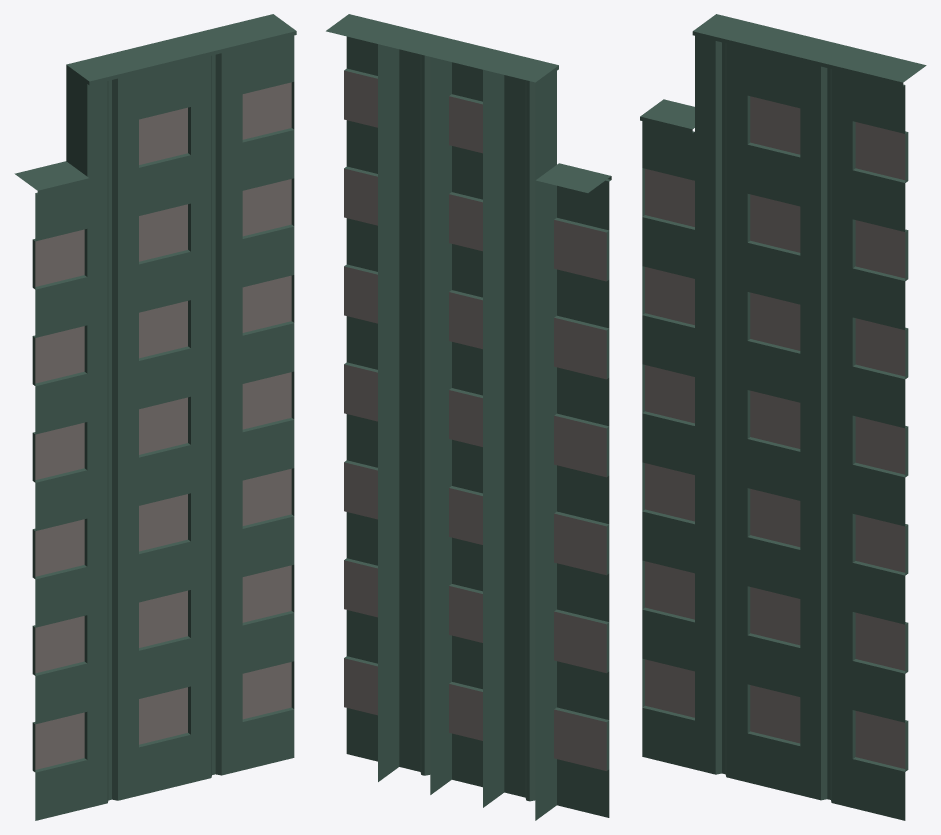
The picture shows the model from 3 angles, left to right: view 1: azimuth 30°, elevation 25°; view 2: azimuth 150°, elevation 25°; view 3: azimuth 330°, elevation 25°; orthographic projection.
Parts seen in each view (by area): view 1: Pared.Win.x4.013; view 2: Pared.Win.x4.013; view 3: Pared.Win.x4.013.
Part boxes in pixels (bbox=[...]): Pared.Win.x4.013: bbox=[14, 14, 296, 820]; Pared.Win.x4.013: bbox=[326, 14, 611, 820]; Pared.Win.x4.013: bbox=[640, 14, 926, 820].
Bounding box in the file's own units: 1392 × 3742 × 217.
